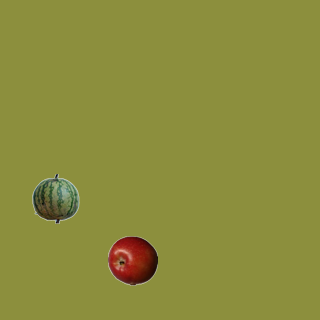Apple Braeburn: (107, 235, 157, 285)
Watermelon: (30, 173, 80, 223)
